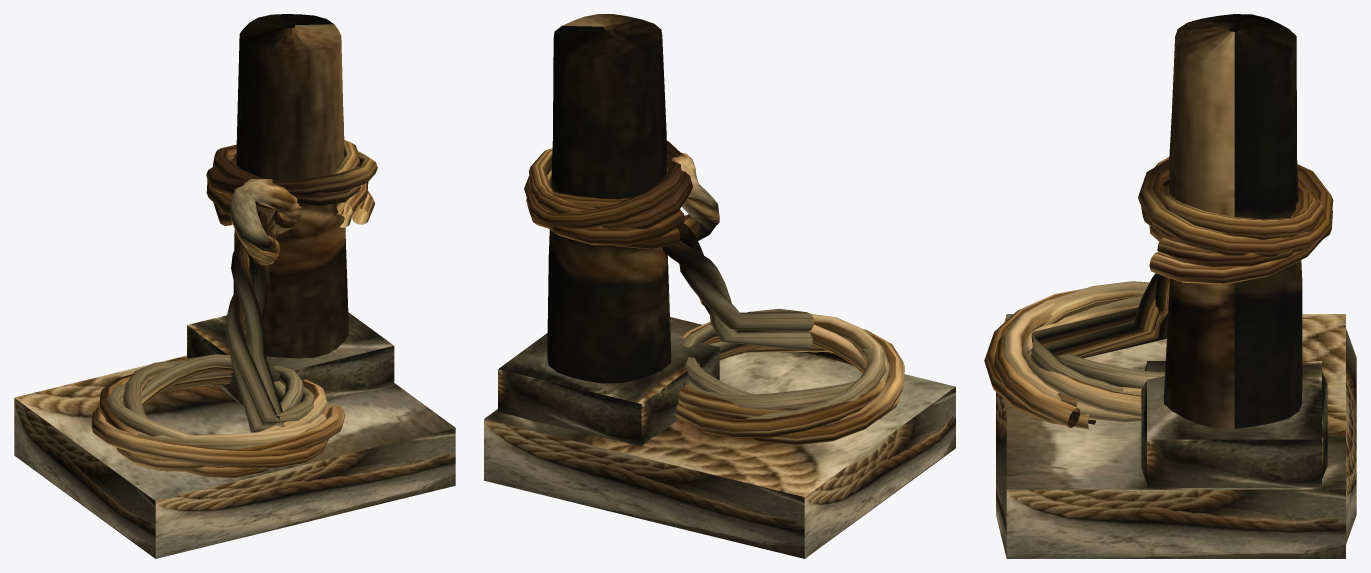
Rendered from threefold-cord.glb.
The picture shows the model from 3 angles, left to right: view 1: azimuth 30°, elevation 25°; view 2: azimuth 150°, elevation 25°; view 3: azimuth 270°, elevation 25°; orthographic projection. The views are drawn at different scales.
Parts seen in each view (by area): view 1: HeroRelicMonument; view 2: HeroRelicMonument; view 3: HeroRelicMonument.
Boxes of the visible parts, bbox=[...] form: HeroRelicMonument: bbox=[14, 14, 455, 558]; HeroRelicMonument: bbox=[484, 14, 955, 558]; HeroRelicMonument: bbox=[984, 14, 1356, 558].
Bounding box in the file's own units: 1.52 × 1.86 × 1.28.
Materials: 1 (1 with a texture image).
